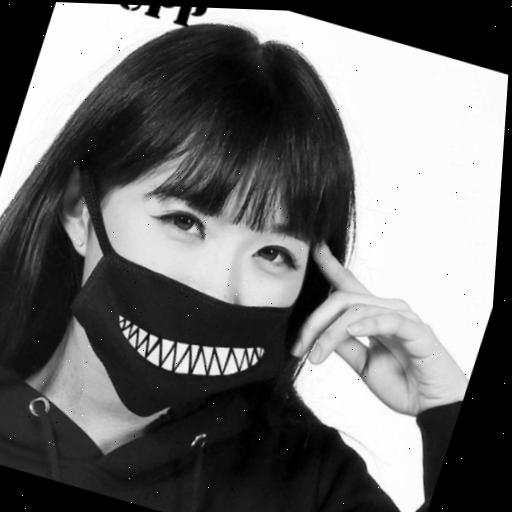mask: (0, 0, 442, 470)
